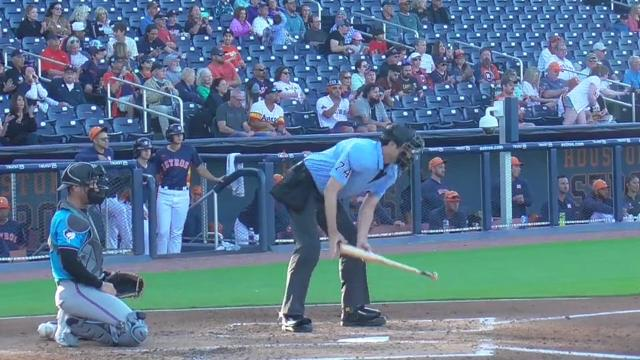bat: (338, 241, 438, 281)
